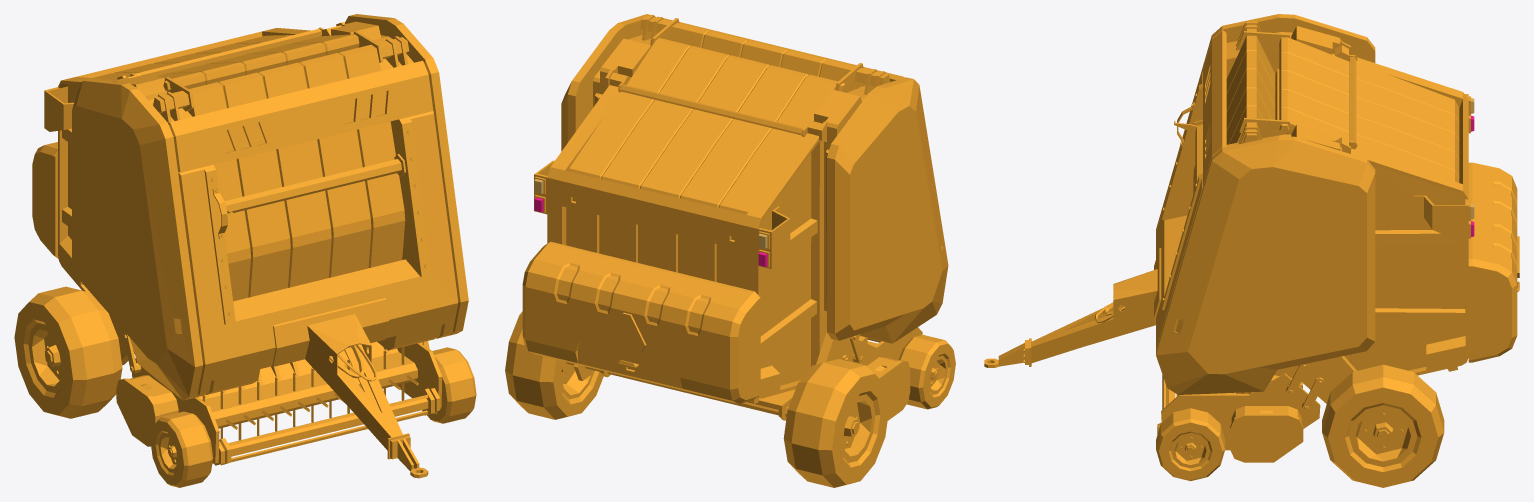
The model's file is SM_Hay_Baler.fbx.
3 views of the same model, side by side, from view 1: azimuth 30°, elevation 25°; view 2: azimuth 150°, elevation 25°; view 3: azimuth 270°, elevation 25° (orthographic). The views are drawn at different scales.
Visible parts, largest first — view 1: hay-baller-base, hay-baler-wheel-ba, hay-baler-door, hay-baler-wheel-fr, hay-baler-rotator-a, hay-baler-rotator-b; view 2: hay-baler-door, hay-baller-base, hay-baler-wheel-ba, hay-baler-wheel-fr; view 3: hay-baller-base, hay-baler-door, hay-baler-wheel-ba, hay-baler-wheel-fr.
Boxes of the visible parts, bbox=[...] form: hay-baller-base: bbox=[72, 14, 468, 478]; hay-baler-wheel-ba: bbox=[14, 286, 122, 418]; hay-baler-door: bbox=[32, 25, 341, 292]; hay-baler-wheel-fr: bbox=[150, 347, 476, 487]; hay-baler-rotator-a: bbox=[219, 388, 434, 465]; hay-baler-rotator-b: bbox=[202, 347, 418, 440]; hay-baler-door: bbox=[522, 72, 823, 403]; hay-baller-base: bbox=[561, 14, 948, 420]; hay-baler-wheel-ba: bbox=[505, 311, 889, 487]; hay-baler-wheel-fr: bbox=[898, 335, 955, 409]; hay-baller-base: bbox=[984, 14, 1375, 462]; hay-baler-door: bbox=[1335, 45, 1519, 375]; hay-baler-wheel-ba: bbox=[1322, 364, 1444, 487]; hay-baler-wheel-fr: bbox=[1156, 408, 1225, 481].
Bounding box in the file's own units: 2.74 × 2.83 × 4.03.
